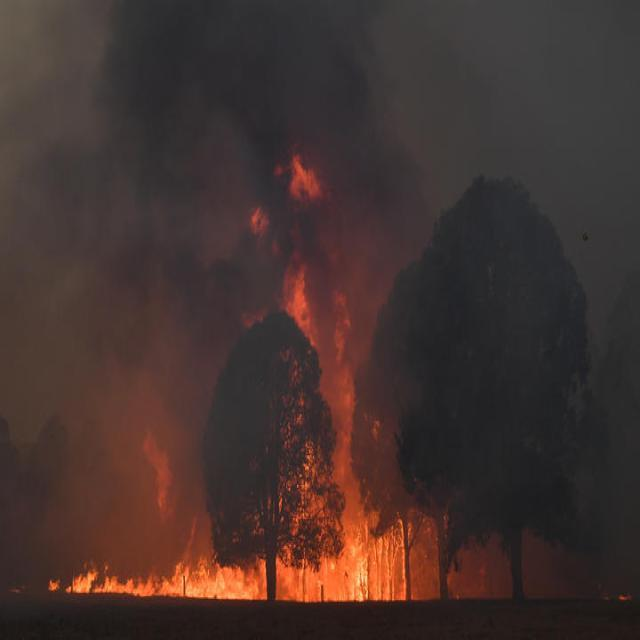Fire: (264, 397, 411, 609), (248, 154, 353, 390), (47, 526, 265, 610)
Smoke: (41, 158, 248, 382), (106, 0, 396, 155), (18, 385, 212, 522)
